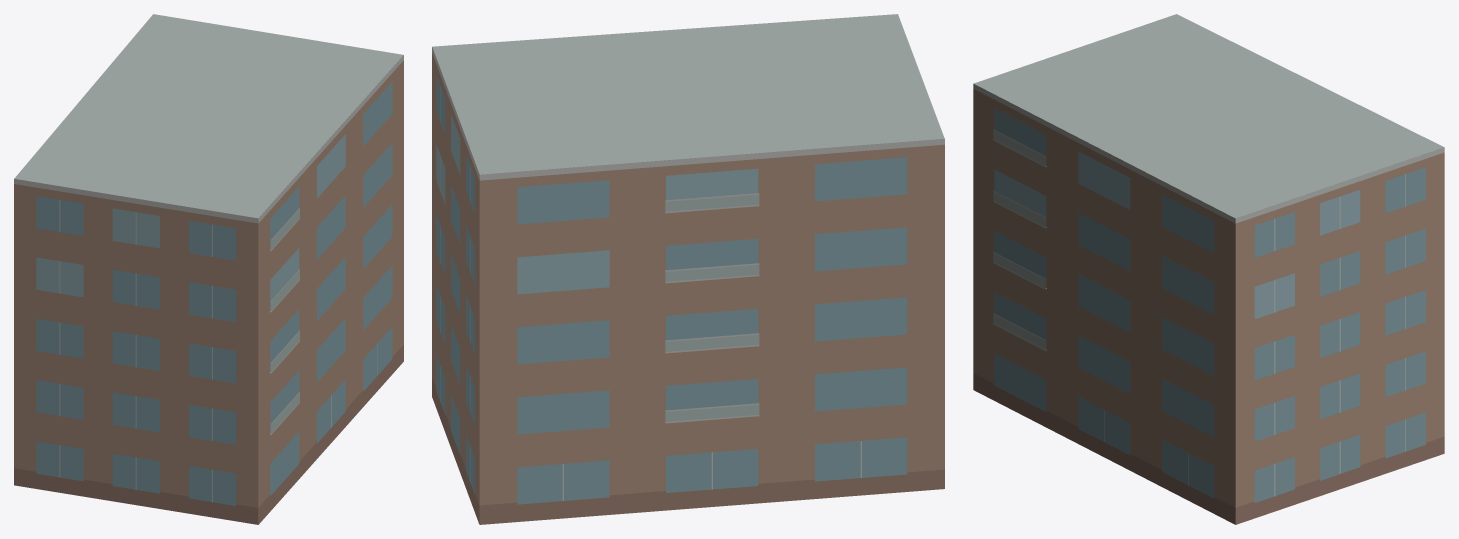
File: survey-upis-32746029.glb
3 renders of one model, left to right at view 1: azimuth 30°, elevation 25°; view 2: azimuth 150°, elevation 25°; view 3: azimuth 270°, elevation 25°, orthographic. The views are drawn at different scales.
Visible parts, largest first — view 1: survey-upis-32746029.tmp; view 2: survey-upis-32746029.tmp; view 3: survey-upis-32746029.tmp.
Boxes of the visible parts, box(x1,y1,x2,y2) form: survey-upis-32746029.tmp: box(14, 14, 403, 524); survey-upis-32746029.tmp: box(432, 14, 944, 524); survey-upis-32746029.tmp: box(973, 14, 1444, 524).
Size of the model in its own units: 20.69 by 14.45 by 20.14.
